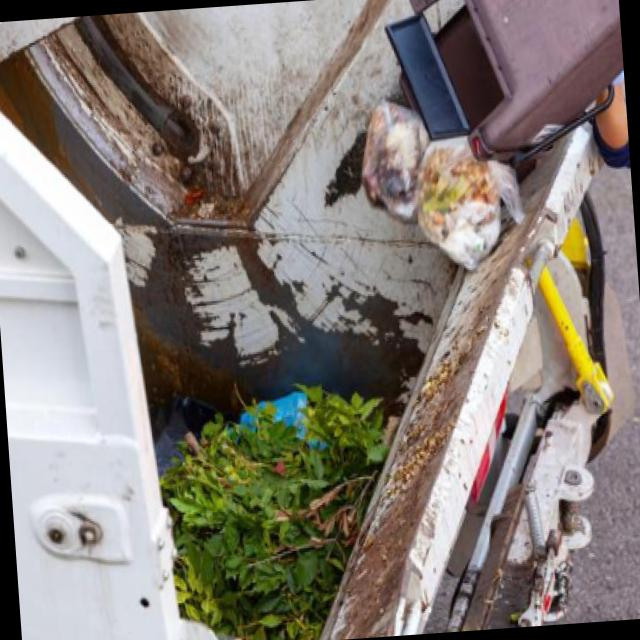paper: (169, 406, 368, 626)
